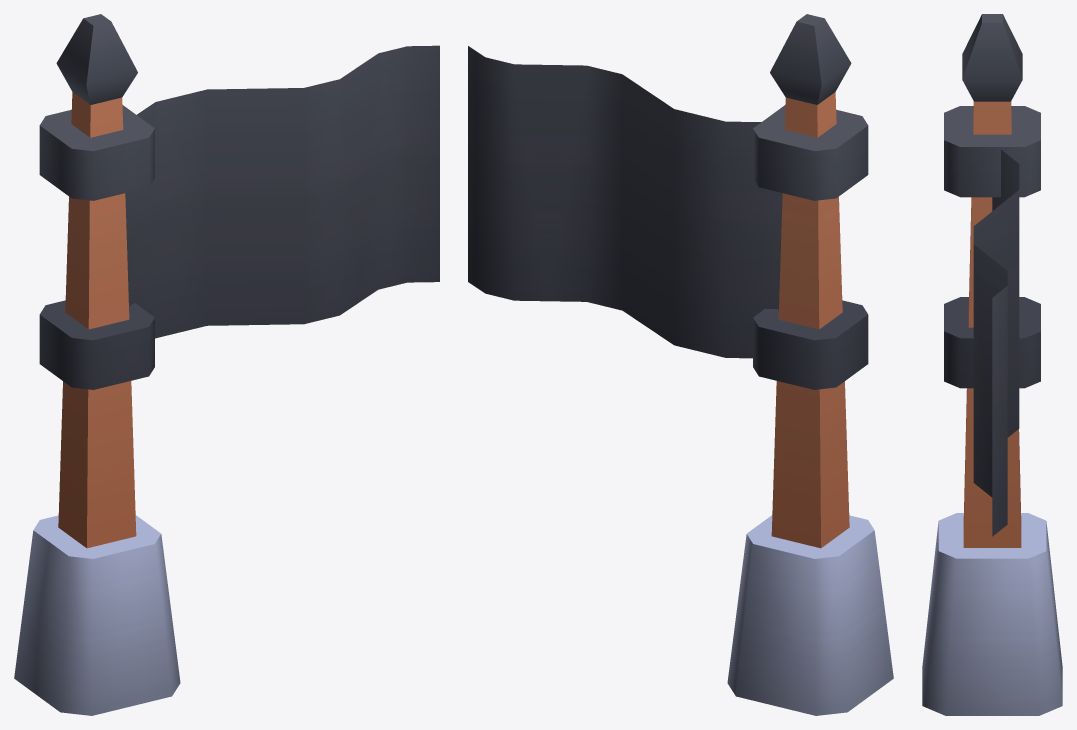
Rendered from pirate_flag.glb.
3 views of the same model, side by side, from view 1: azimuth 30°, elevation 25°; view 2: azimuth 150°, elevation 25°; view 3: azimuth 270°, elevation 25° (orthographic).
Visible parts, largest first — view 1: flag-pirate; view 2: flag-pirate; view 3: flag-pirate.
Boxes of the visible parts, <box> form: flag-pirate: <box>14,14,439,715</box>; flag-pirate: <box>468,14,893,715</box>; flag-pirate: <box>922,14,1062,715</box>.
Bounding box in the file's own units: 1.34 × 2.1 × 0.3988.
1 material, 1 textured.
